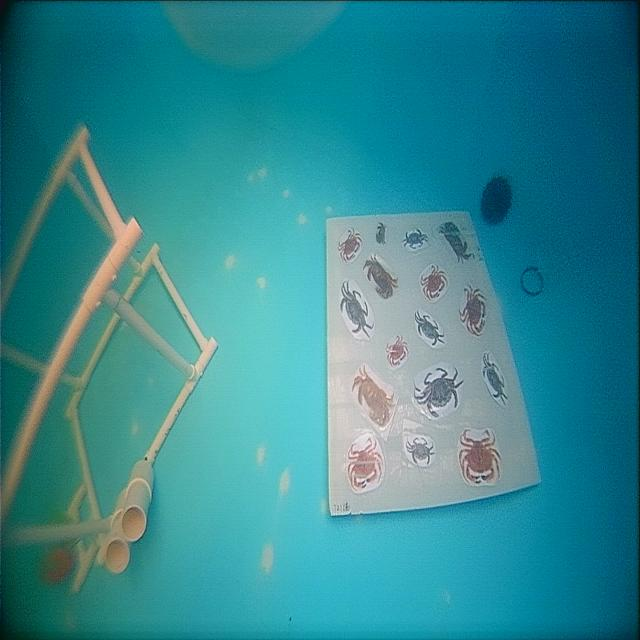GreenCrab: (414, 367, 463, 417), (340, 282, 373, 337), (482, 352, 508, 405), (414, 311, 444, 345)
